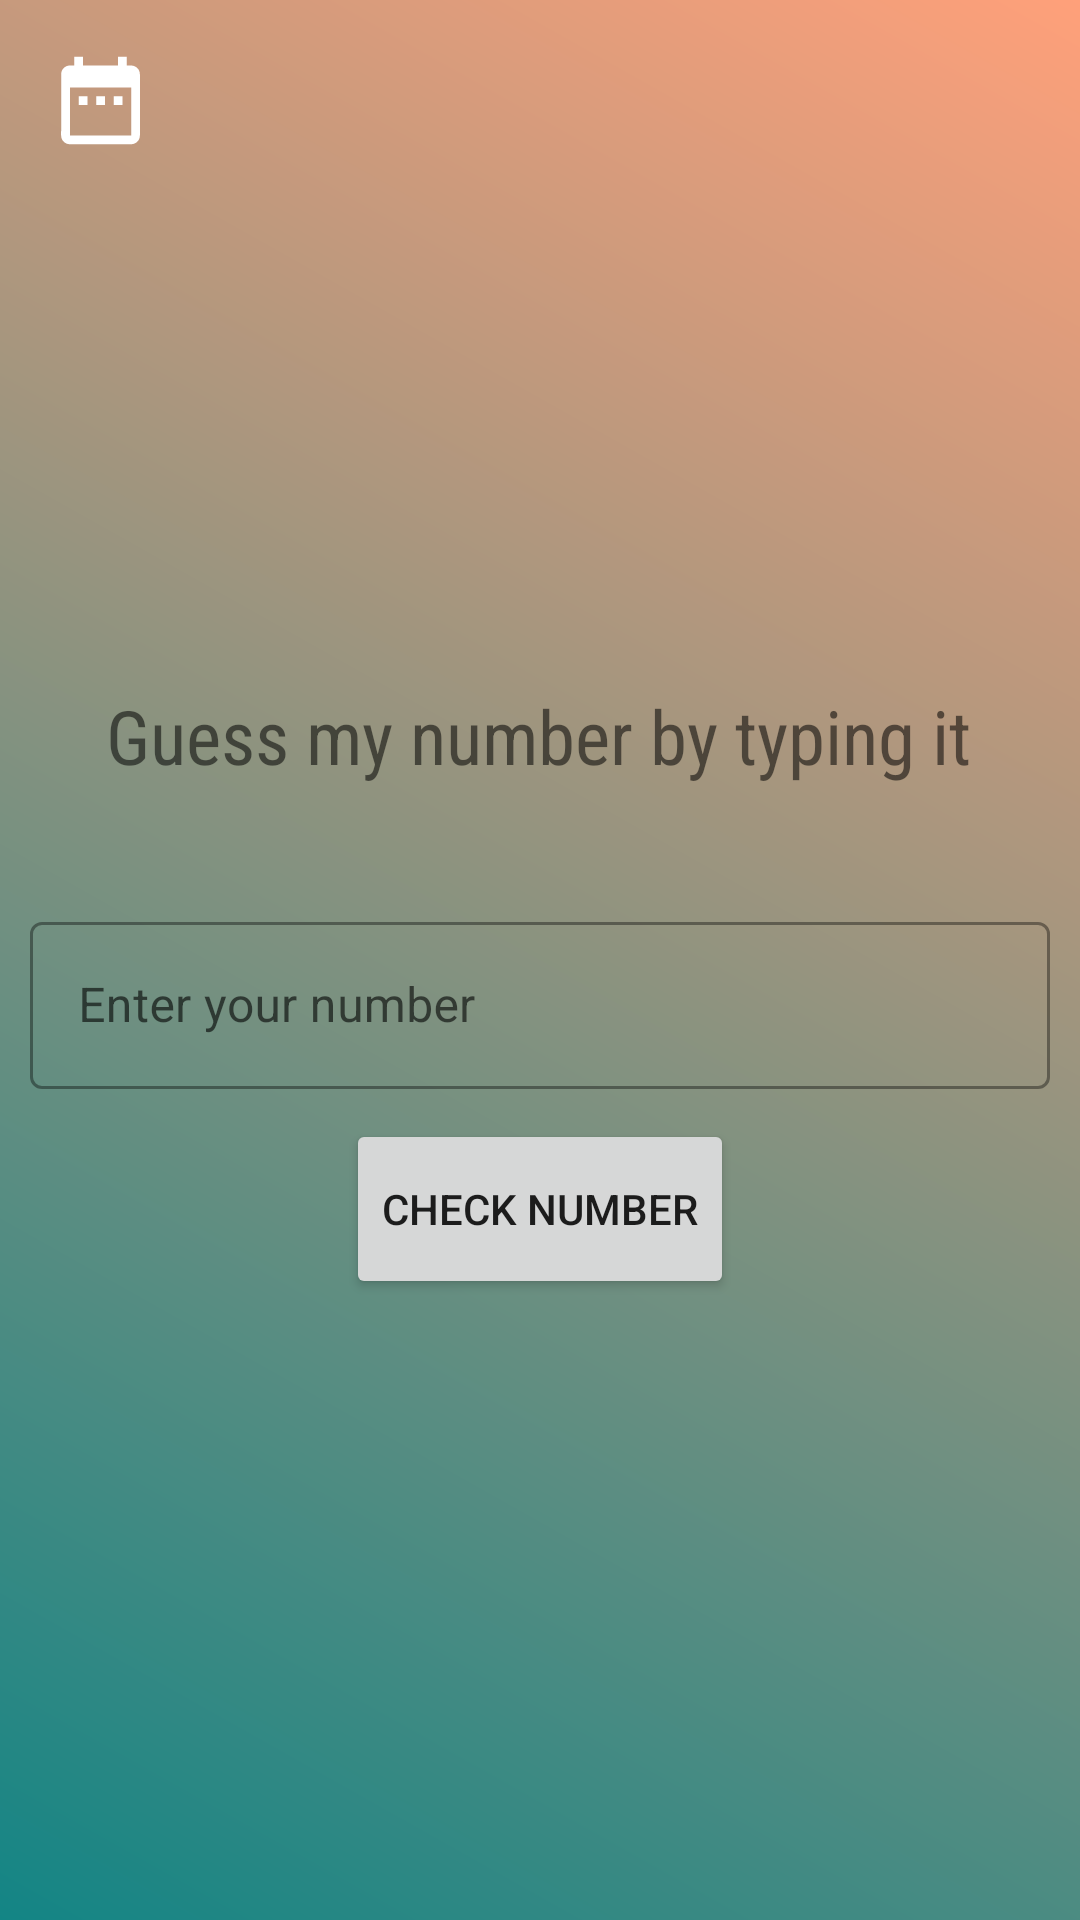

Where to tap for icons on this 1080*1920 app screen, as (x=x, y=y):
date range: (x=100, y=100)
